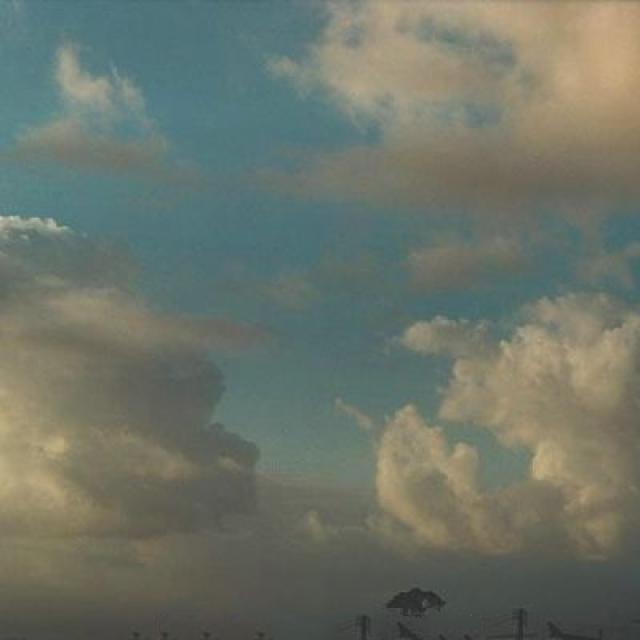Sc: (4, 40, 640, 501)
